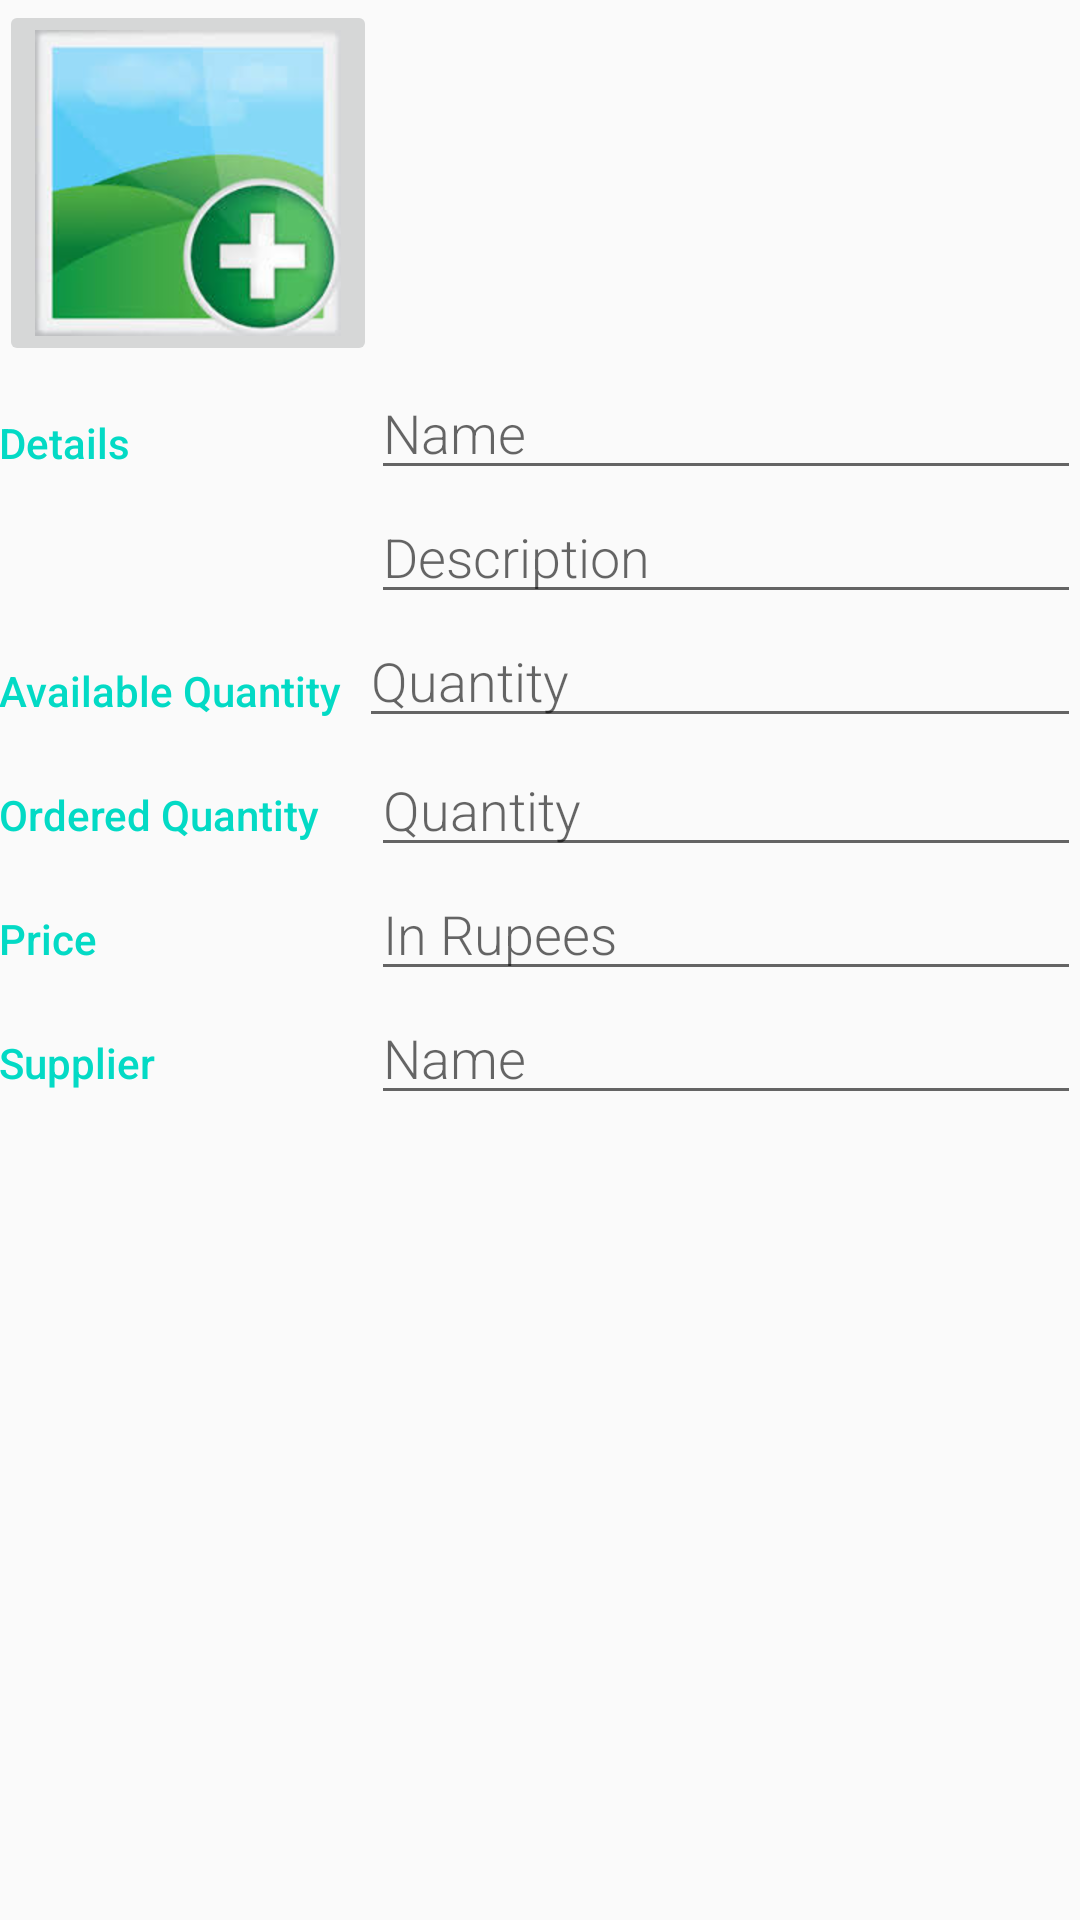

Where to tap for icons on this 1080px x 1920px app screen, as [x,y]:
add: [188,183]
